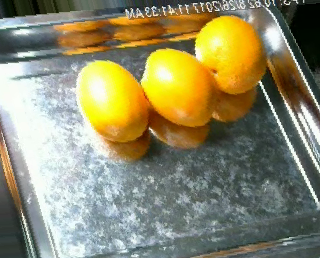Orange: (141, 46, 219, 126), (75, 59, 148, 141), (195, 13, 267, 94)
